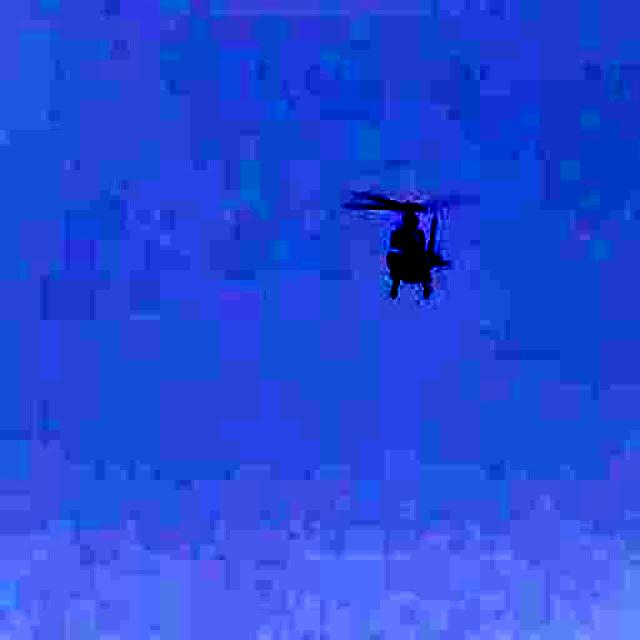drone: (328, 174, 488, 318)
